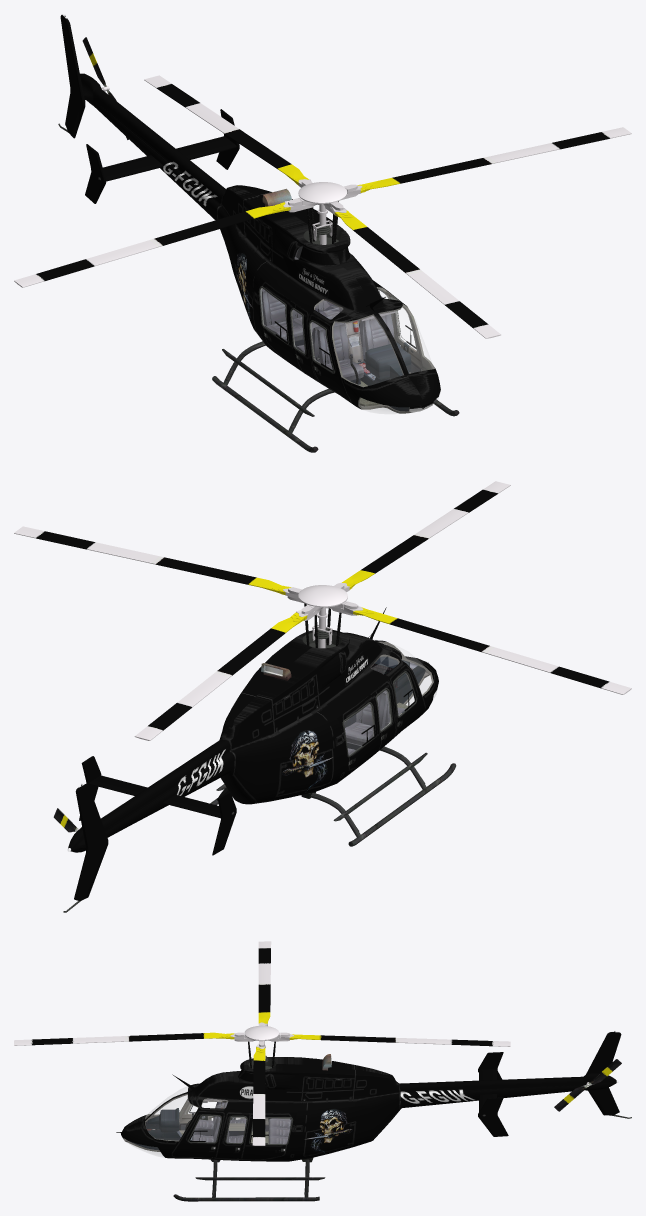
3 renders of one model, top to bottom at view 1: azimuth 30°, elevation 25°; view 2: azimuth 150°, elevation 25°; view 3: azimuth 270°, elevation 25°, orthographic. The views are drawn at different scales.
Parts seen in each view (by area): view 1: tailrotor; view 2: tailrotor; view 3: tailrotor.
Part boxes in pixels (<box>): tailrotor: <box>14,14,631,452</box>; tailrotor: <box>14,481,631,912</box>; tailrotor: <box>14,941,631,1201</box>.
Bounding box in the file's own units: 10.5 × 3.43 × 13.05.
Materials: 8 (7 with a texture image).
